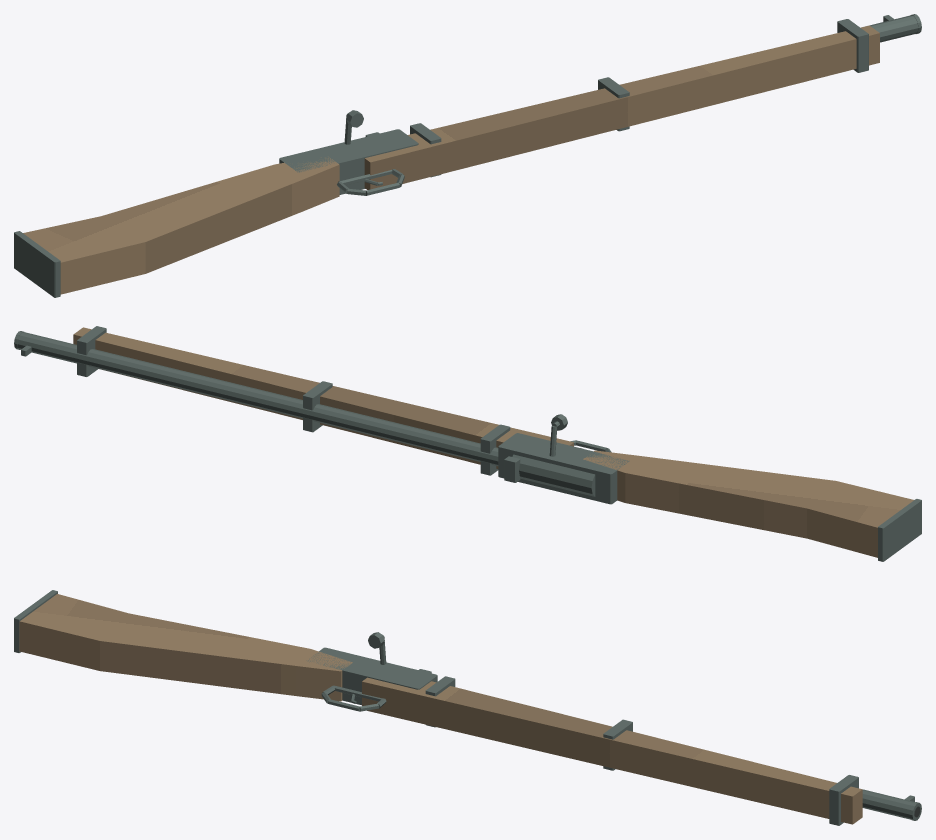
File: weapon-chassepot.glb
3 renders of one model, top to bottom at view 1: azimuth 30°, elevation 25°; view 2: azimuth 150°, elevation 25°; view 3: azimuth 330°, elevation 25°, orthographic. The views are drawn at different scales.
Visible parts, largest first — view 1: weapon-chassepot/tapered-full-depth-forend, weapon-chassepot/shaped-solid-butt, weapon-chassepot/central-receiver, weapon-chassepot/butt-end-plate, weapon-chassepot/stock-band-2, weapon-chassepot/long-barrel; view 2: weapon-chassepot/shaped-solid-butt, weapon-chassepot/tapered-full-depth-forend, weapon-chassepot/long-barrel, weapon-chassepot/central-receiver, weapon-chassepot/receiver-top-cylinder, weapon-chassepot/butt-end-plate, weapon-chassepot/stock-band-2, weapon-chassepot/stock-band-0, weapon-chassepot/stock-band-1; view 3: weapon-chassepot/tapered-full-depth-forend, weapon-chassepot/shaped-solid-butt, weapon-chassepot/central-receiver, weapon-chassepot/long-barrel, weapon-chassepot/stock-band-2, weapon-chassepot/butt-end-plate.
Part boxes in pixels (box(x1,y1,x2,y2)): weapon-chassepot/tapered-full-depth-forend: box(364, 25, 879, 189); weapon-chassepot/shaped-solid-butt: box(23, 156, 339, 294); weapon-chassepot/central-receiver: box(279, 129, 418, 194); weapon-chassepot/butt-end-plate: box(14, 231, 60, 297); weapon-chassepot/stock-band-2: box(837, 19, 868, 72); weapon-chassepot/long-barrel: box(869, 15, 918, 42); weapon-chassepot/shaped-solid-butt: box(583, 450, 913, 557); weapon-chassepot/tapered-full-depth-forend: box(73, 327, 573, 468); weapon-chassepot/long-barrel: box(17, 332, 498, 466); weapon-chassepot/central-receiver: box(498, 433, 629, 504); weapon-chassepot/receiver-top-cylinder: box(512, 454, 595, 496); weapon-chassepot/butt-end-plate: box(878, 499, 921, 561); weapon-chassepot/stock-band-2: box(77, 326, 106, 376); weapon-chassepot/stock-band-0: box(480, 424, 510, 475); weapon-chassepot/stock-band-1: box(303, 381, 332, 432); weapon-chassepot/tapered-full-depth-forend: box(362, 677, 862, 824); weapon-chassepot/shaped-solid-butt: box(19, 594, 352, 701); weapon-chassepot/central-receiver: box(306, 647, 437, 705); weapon-chassepot/long-barrel: box(862, 789, 914, 819); weapon-chassepot/stock-band-2: box(829, 775, 858, 825); weapon-chassepot/butt-end-plate: box(14, 590, 57, 652).
Bounding box in the file's own units: 1.31 × 0.1 × 0.1515.
Materials: 3 (3 with a texture image).
